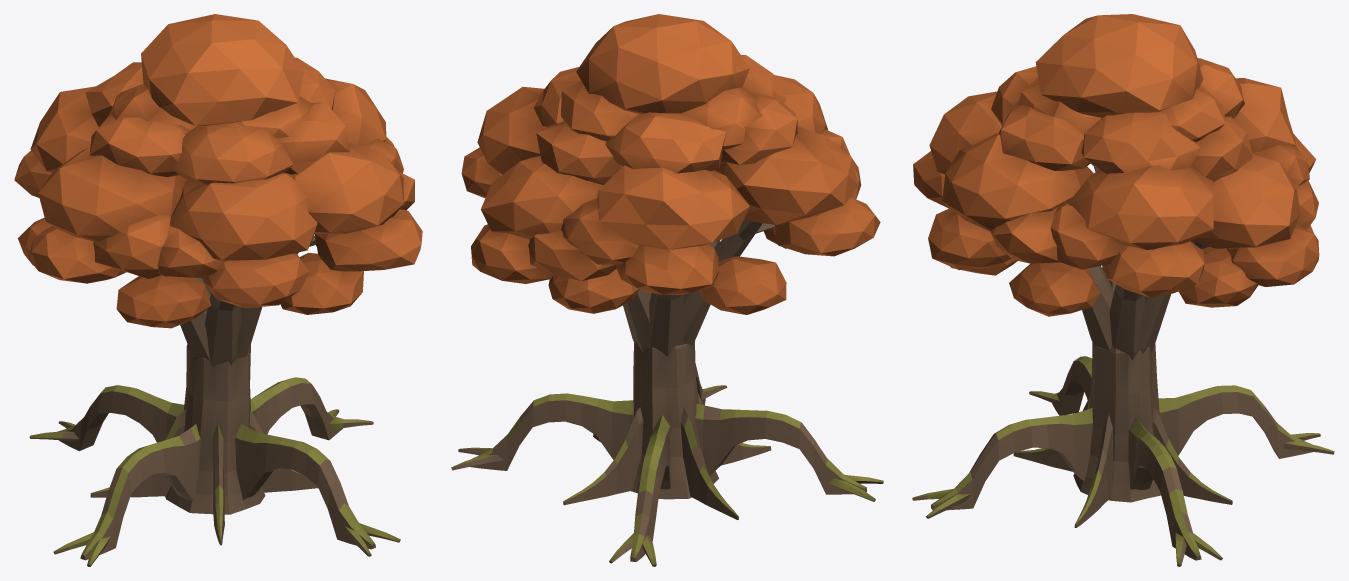
The model's file is tree_ancient_low.glb.
3 renders of one model, left to right at view 1: azimuth 30°, elevation 25°; view 2: azimuth 150°, elevation 25°; view 3: azimuth 270°, elevation 25°, orthographic. The views are drawn at different scales.
Bounding box in the file's own units: 35.28 × 40.78 × 33.89.
